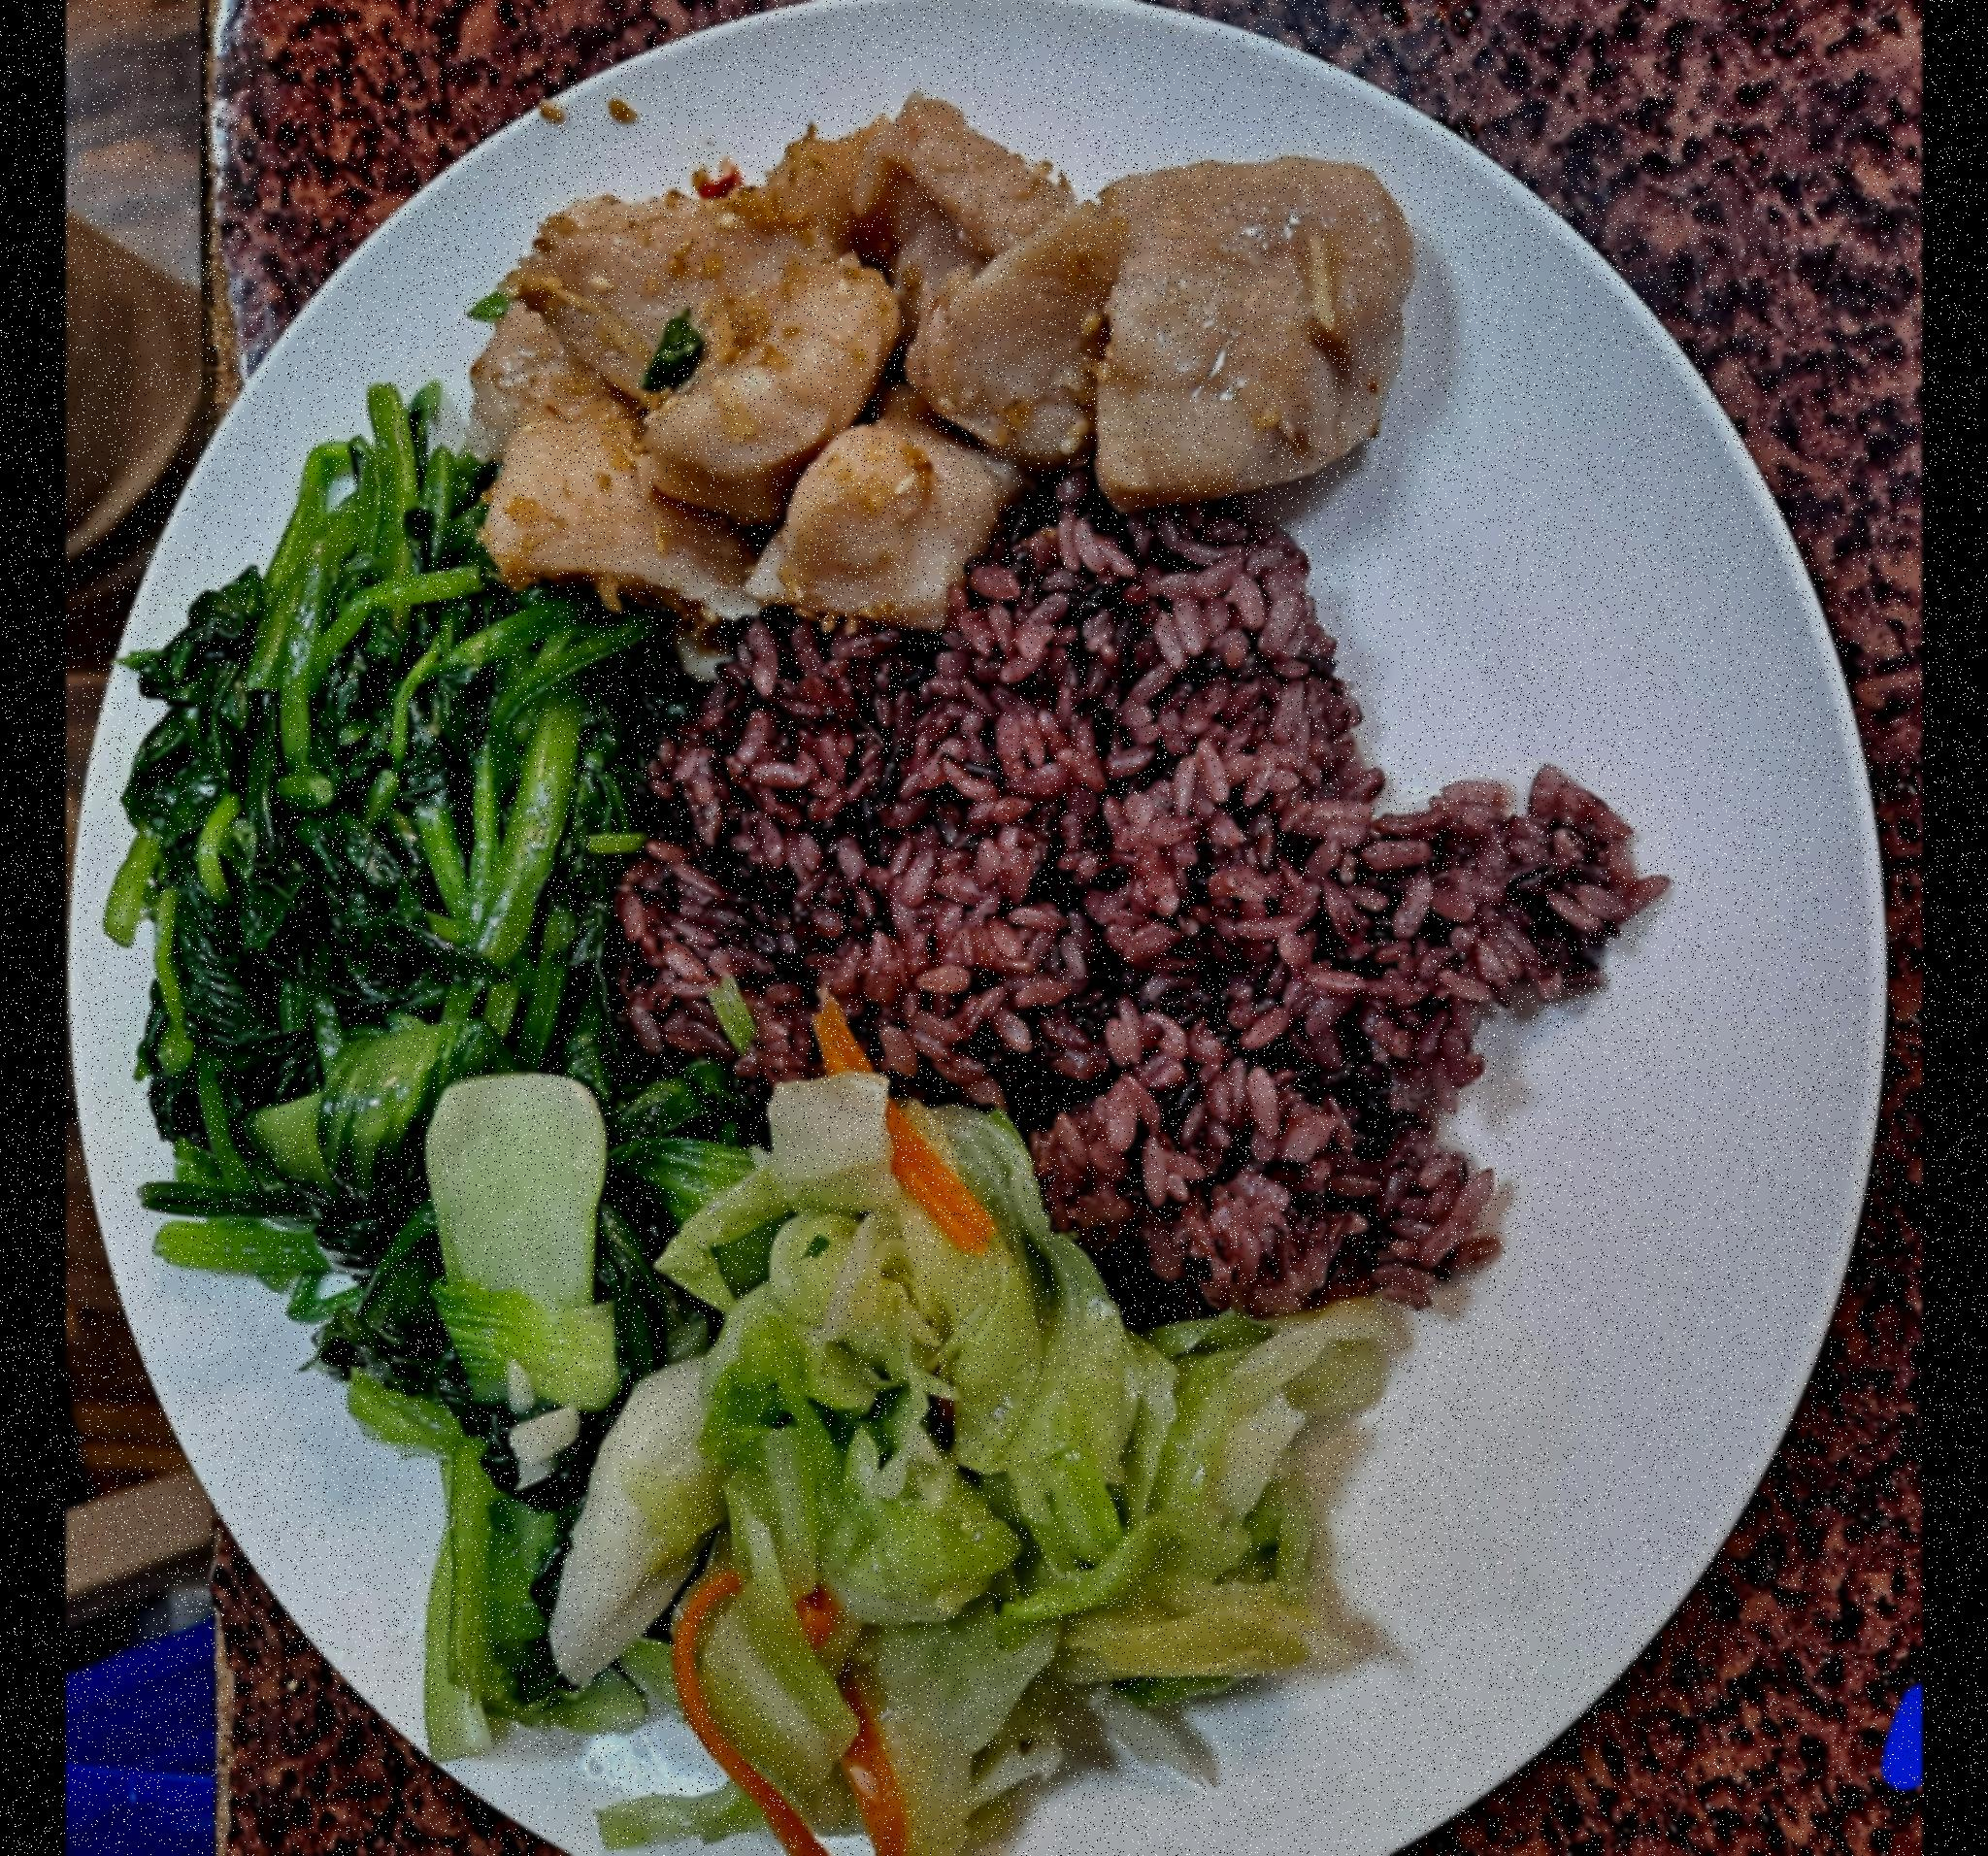big fried chicken leg: (70, 0, 1899, 1856)
braised fish: (637, 511, 1648, 1305)
braised fish fillet: (117, 419, 631, 1696), (537, 1095, 1358, 1856)
braised pork: (457, 98, 1423, 628)
